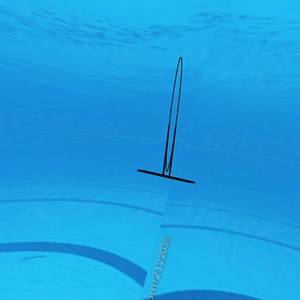circle: (135, 53, 207, 187)
